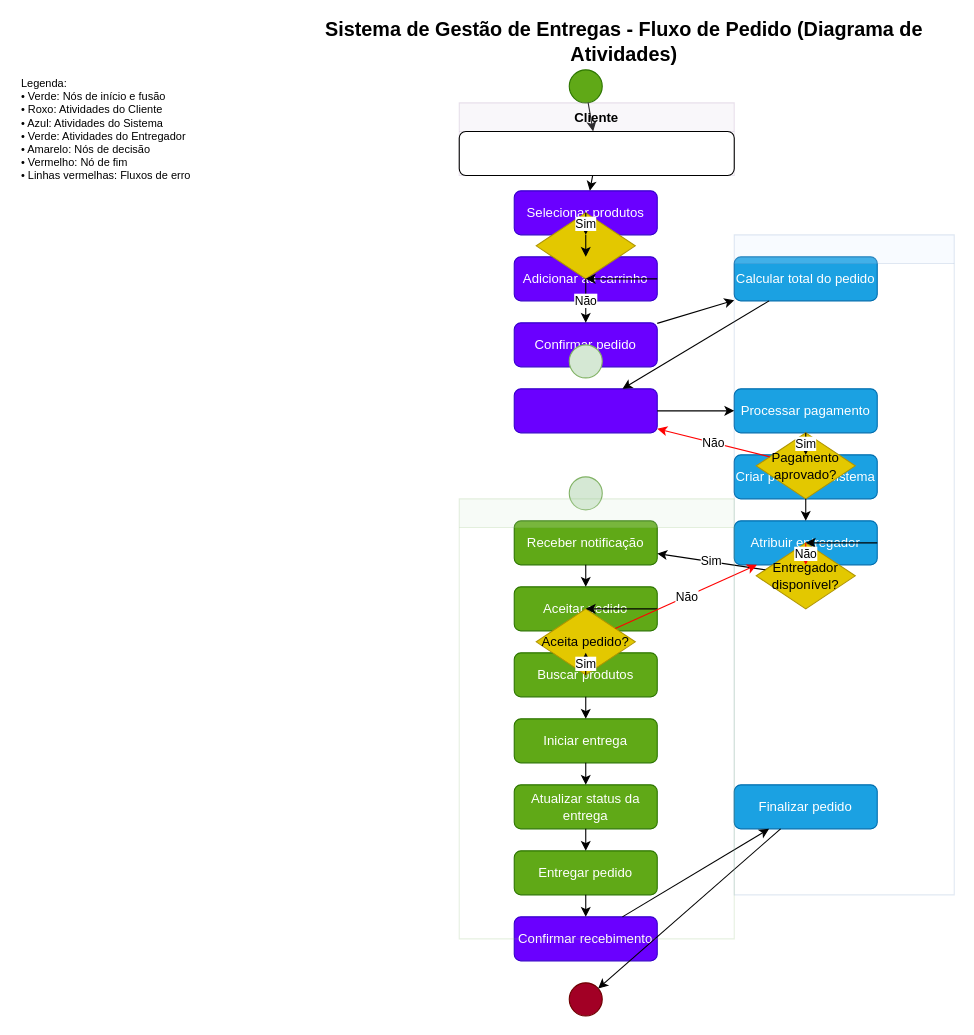
Some shapes in this 974 by 1035 pixel diagram are drawn without their labels. Here are the shapes that lost their labels. From the top down, the centre of each, then its label:
the point at 596,152: Cliente faz login
the point at 585,245: Mais produtos?
the point at 585,410: Escolher método de pagamento
the point at 843,564: Sistema
the point at 596,718: Entregador
